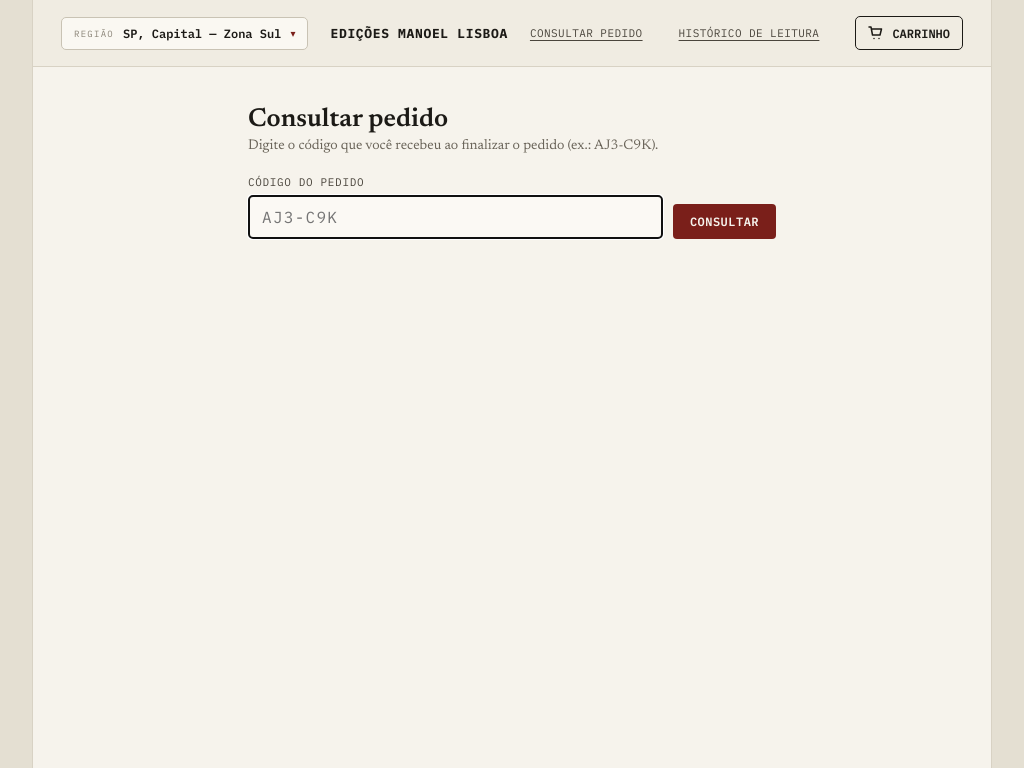
Scenario: Loja — Consultar pedido › consulta por código (com hífen) e mostra status por unidade + observação
Type "aj3-c9k" into the field labelled "Código do pedido" at (455, 217), box [248,195,663,239]
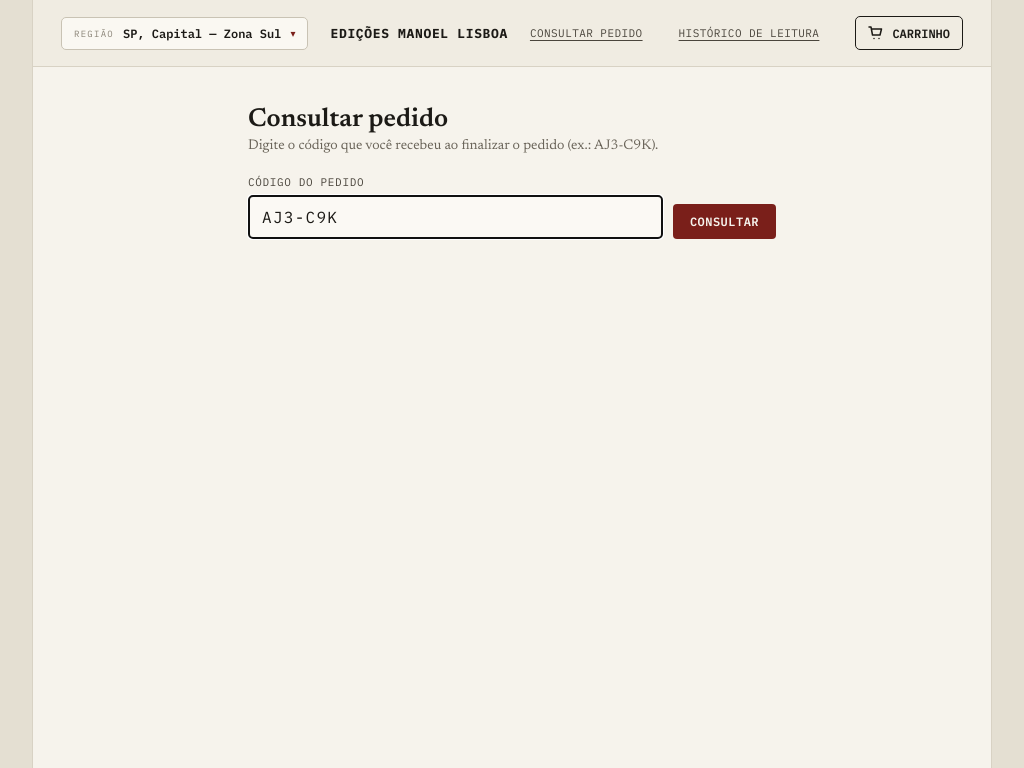
Click the button "Consultar" at (724, 222), box [673,204,776,239]
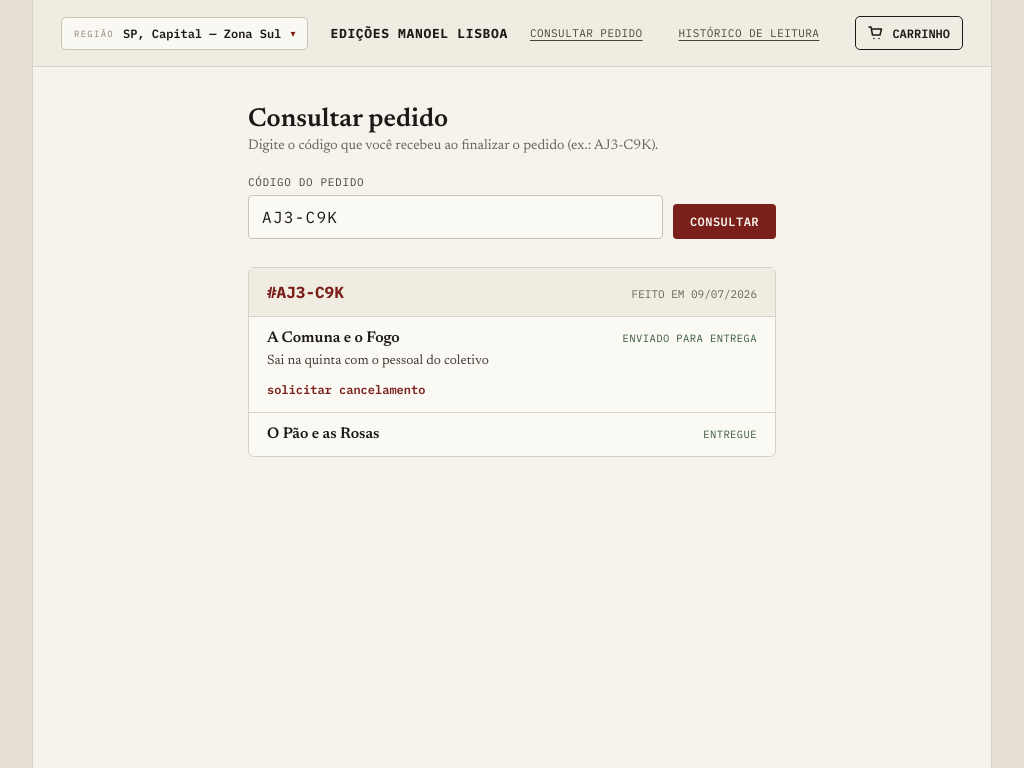
expect the text "#AJ3-C9K" is shown: met, box [267,282,344,302]
expect the text "A Comuna e o Fogo" is shown: met, box [267,331,400,346]
expect the text "Enviado para entrega" is shown: met, box [623,331,757,345]
